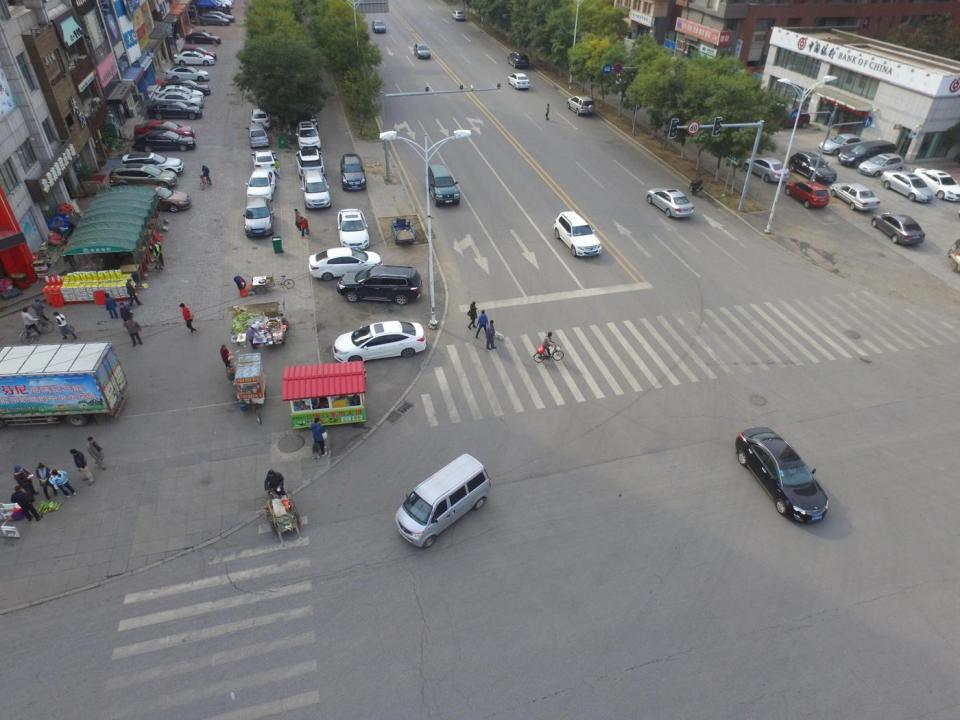car: (734, 425, 830, 525), (332, 320, 426, 366), (337, 265, 423, 304), (309, 247, 383, 282), (552, 212, 601, 260), (123, 183, 190, 214), (108, 166, 175, 194), (872, 211, 925, 246), (881, 169, 935, 203), (645, 186, 695, 220), (916, 165, 959, 202), (119, 152, 180, 178), (134, 130, 198, 154), (789, 152, 837, 184), (831, 184, 881, 214), (336, 208, 370, 252), (784, 180, 831, 210), (133, 121, 194, 144), (745, 154, 789, 185), (244, 196, 274, 238), (300, 170, 329, 212), (156, 78, 210, 100), (148, 91, 201, 113), (149, 84, 202, 106), (858, 154, 906, 176), (340, 154, 367, 193), (770, 107, 810, 133), (147, 103, 202, 121), (247, 169, 276, 203), (818, 133, 863, 154), (250, 147, 278, 179), (172, 50, 215, 70), (294, 120, 320, 152), (296, 147, 324, 175), (163, 66, 209, 83), (192, 10, 232, 28), (173, 48, 214, 65), (184, 30, 221, 46), (192, 13, 230, 27), (567, 96, 593, 116), (251, 108, 272, 130), (507, 51, 530, 69), (508, 73, 530, 91), (414, 44, 431, 62), (372, 21, 386, 34), (452, 10, 466, 22)
van: (396, 455, 490, 548), (837, 140, 899, 166), (426, 164, 460, 208), (245, 123, 267, 149)
